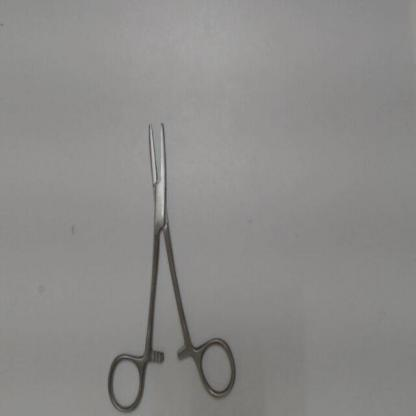Mayo Needle Holder: (101, 76, 245, 414)
